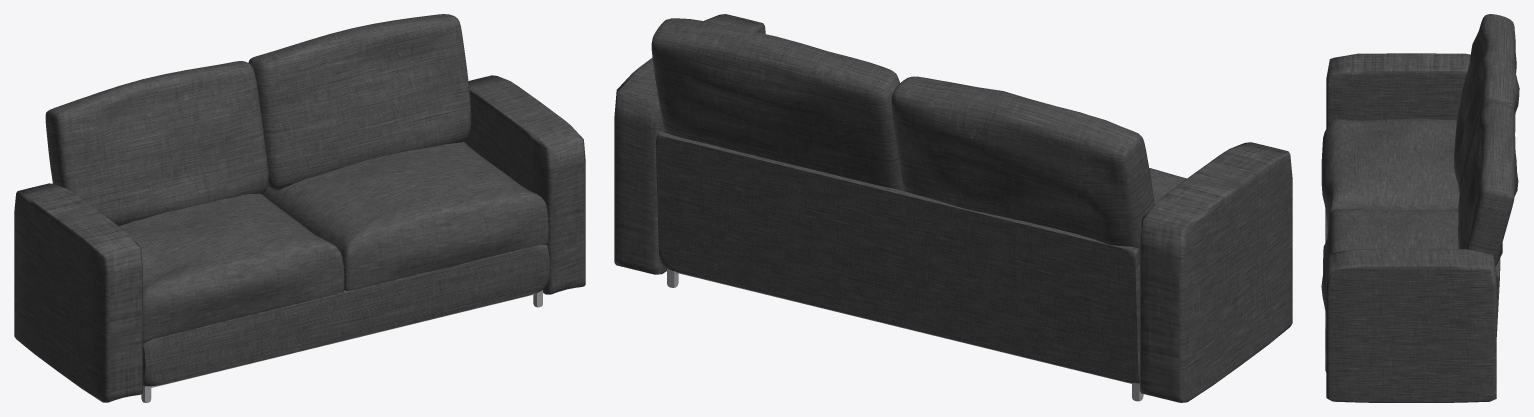
File: loveseat_fabric.glb
3 renders of one model, left to right at view 1: azimuth 30°, elevation 25°; view 2: azimuth 150°, elevation 25°; view 3: azimuth 270°, elevation 25°, orthographic. The views are drawn at different scales.
Visible parts, largest first — view 1: Object_4; view 2: Object_4; view 3: Object_4.
Part boxes in pixels (bbox=[...]): Object_4: bbox=[14, 14, 585, 402]; Object_4: bbox=[614, 14, 1292, 402]; Object_4: bbox=[1321, 14, 1519, 402].
Bounding box in the file's own units: 1.7 × 0.7866 × 0.6672.
Materials: 1 (1 with a texture image).
